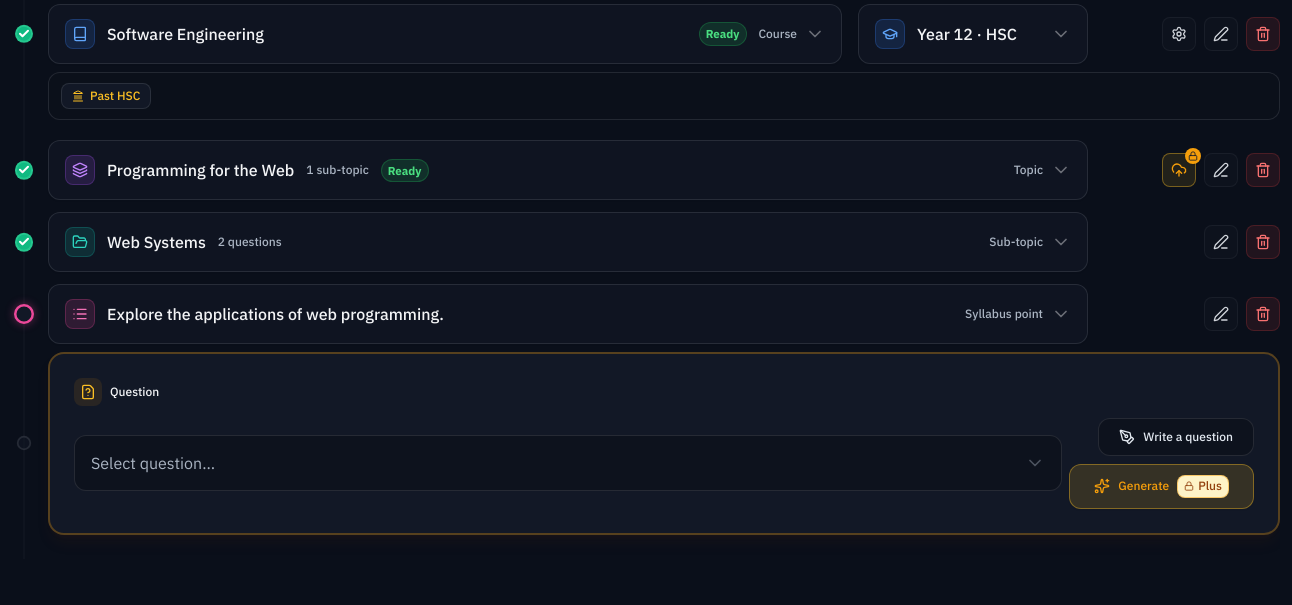
Test case: past HSC navigator › narrows to the chosen years, and still lists the selected topic beside them
The width and height of the screenshot is (1292, 605).
Click the button "Past HSC".
click(106, 96)  # box [61,83,151,109]
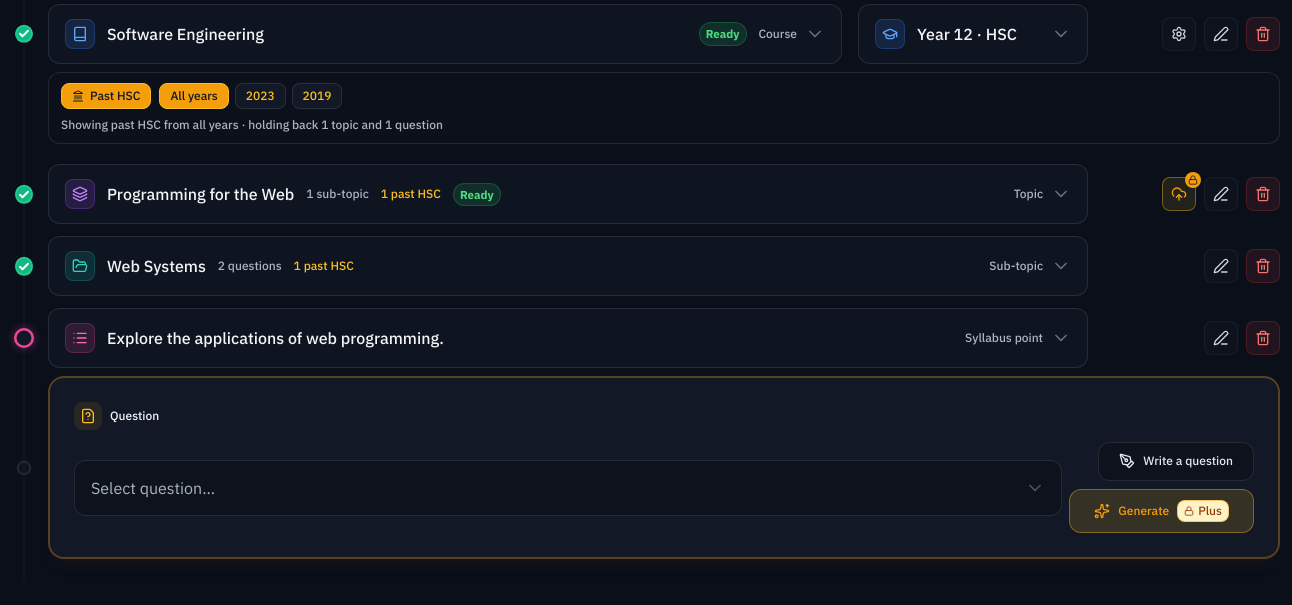
Click the button "2019".
click(317, 96)  # box [292,83,342,109]
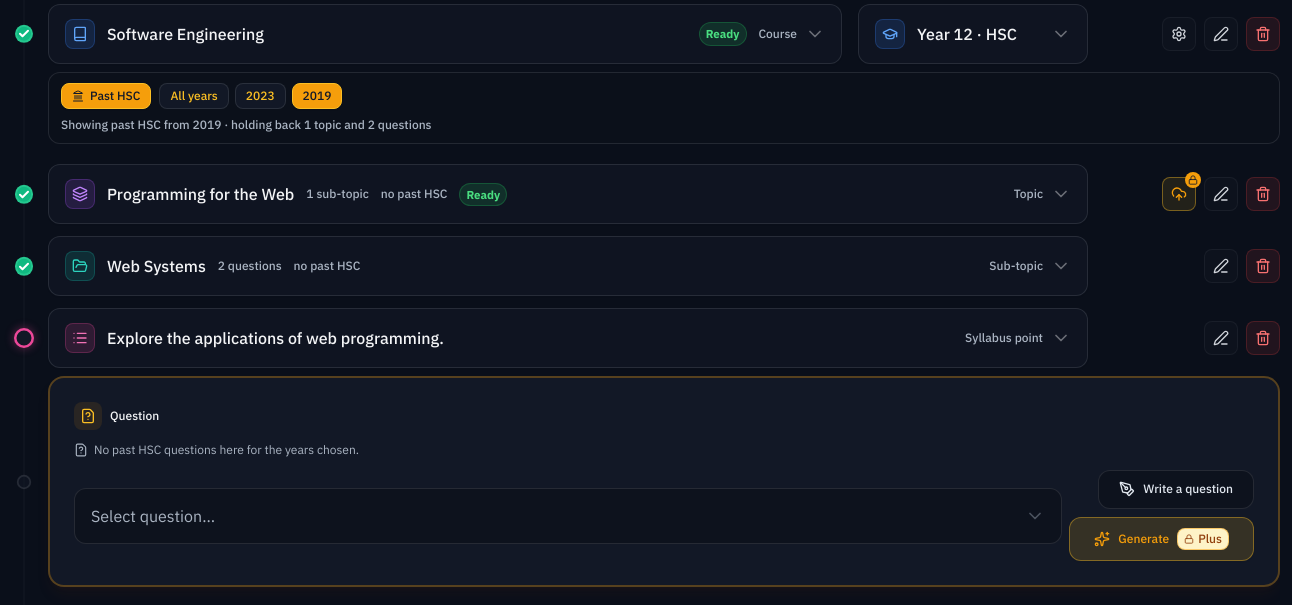
Expected: the button "2019" is pressed, [292,83,342,109]
Expected: the button "All years" is not pressed, [159,83,229,109]
Click the button "Programming for the Web".
click(201, 194)  # box [48,164,1088,224]
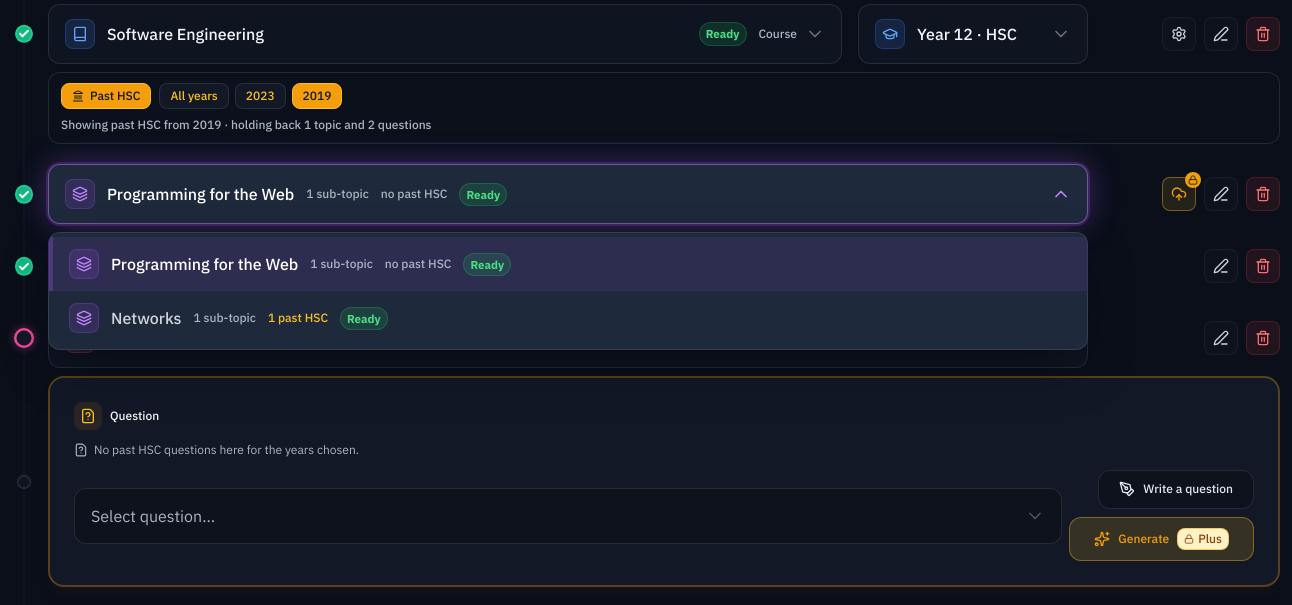
Expected: the 2nd text "no past HSC" is shown, [385,256,452,272]
Expected: the text "Networks" is shown, [111,306,182,330]
